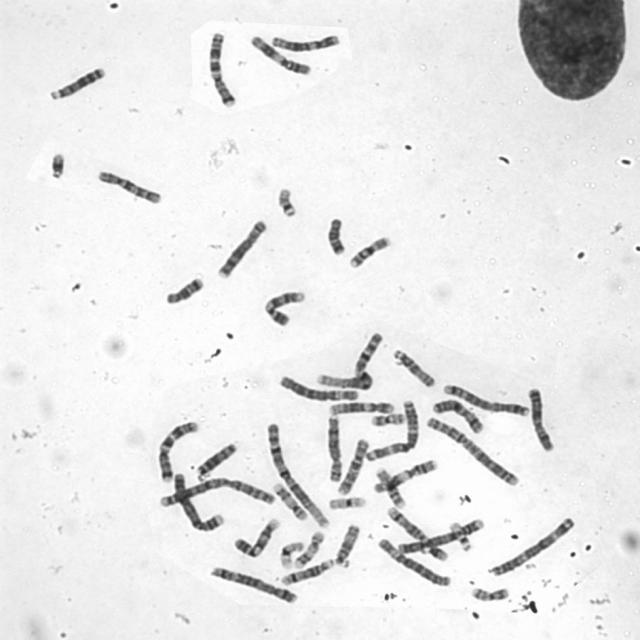A1: (265, 424, 332, 530), (315, 330, 383, 391)
A2: (424, 416, 521, 488), (156, 477, 276, 509)
A3: (486, 516, 574, 578), (364, 399, 420, 461)
B4: (172, 470, 228, 533), (398, 517, 484, 554)
B5: (208, 566, 299, 606), (442, 382, 530, 417)
C10: (95, 168, 163, 206), (337, 436, 369, 496)
C11: (249, 34, 313, 76), (372, 458, 440, 494)
C12: (269, 34, 341, 53), (328, 402, 396, 416)
C6: (377, 536, 452, 588), (278, 374, 360, 402)
C7: (204, 30, 239, 111), (156, 420, 200, 484)
C8: (216, 220, 269, 280), (325, 414, 342, 482)
C9: (231, 516, 281, 558), (260, 290, 308, 329)
D13: (49, 65, 108, 102), (195, 438, 242, 477)
D14: (384, 506, 430, 542), (280, 558, 333, 588)
D15: (392, 348, 438, 389), (333, 522, 362, 570)
E16: (347, 235, 393, 269), (374, 467, 408, 511)
E17: (272, 481, 309, 522), (293, 530, 326, 568)
E18: (165, 275, 205, 305), (325, 216, 348, 256)
F19: (278, 541, 304, 573), (328, 494, 368, 512)
F20: (470, 587, 509, 602), (370, 412, 404, 426)
G21: (419, 545, 452, 563), (49, 153, 69, 180)
G22: (276, 188, 300, 219), (449, 521, 473, 552)
X: (431, 398, 484, 435), (527, 388, 556, 451)
